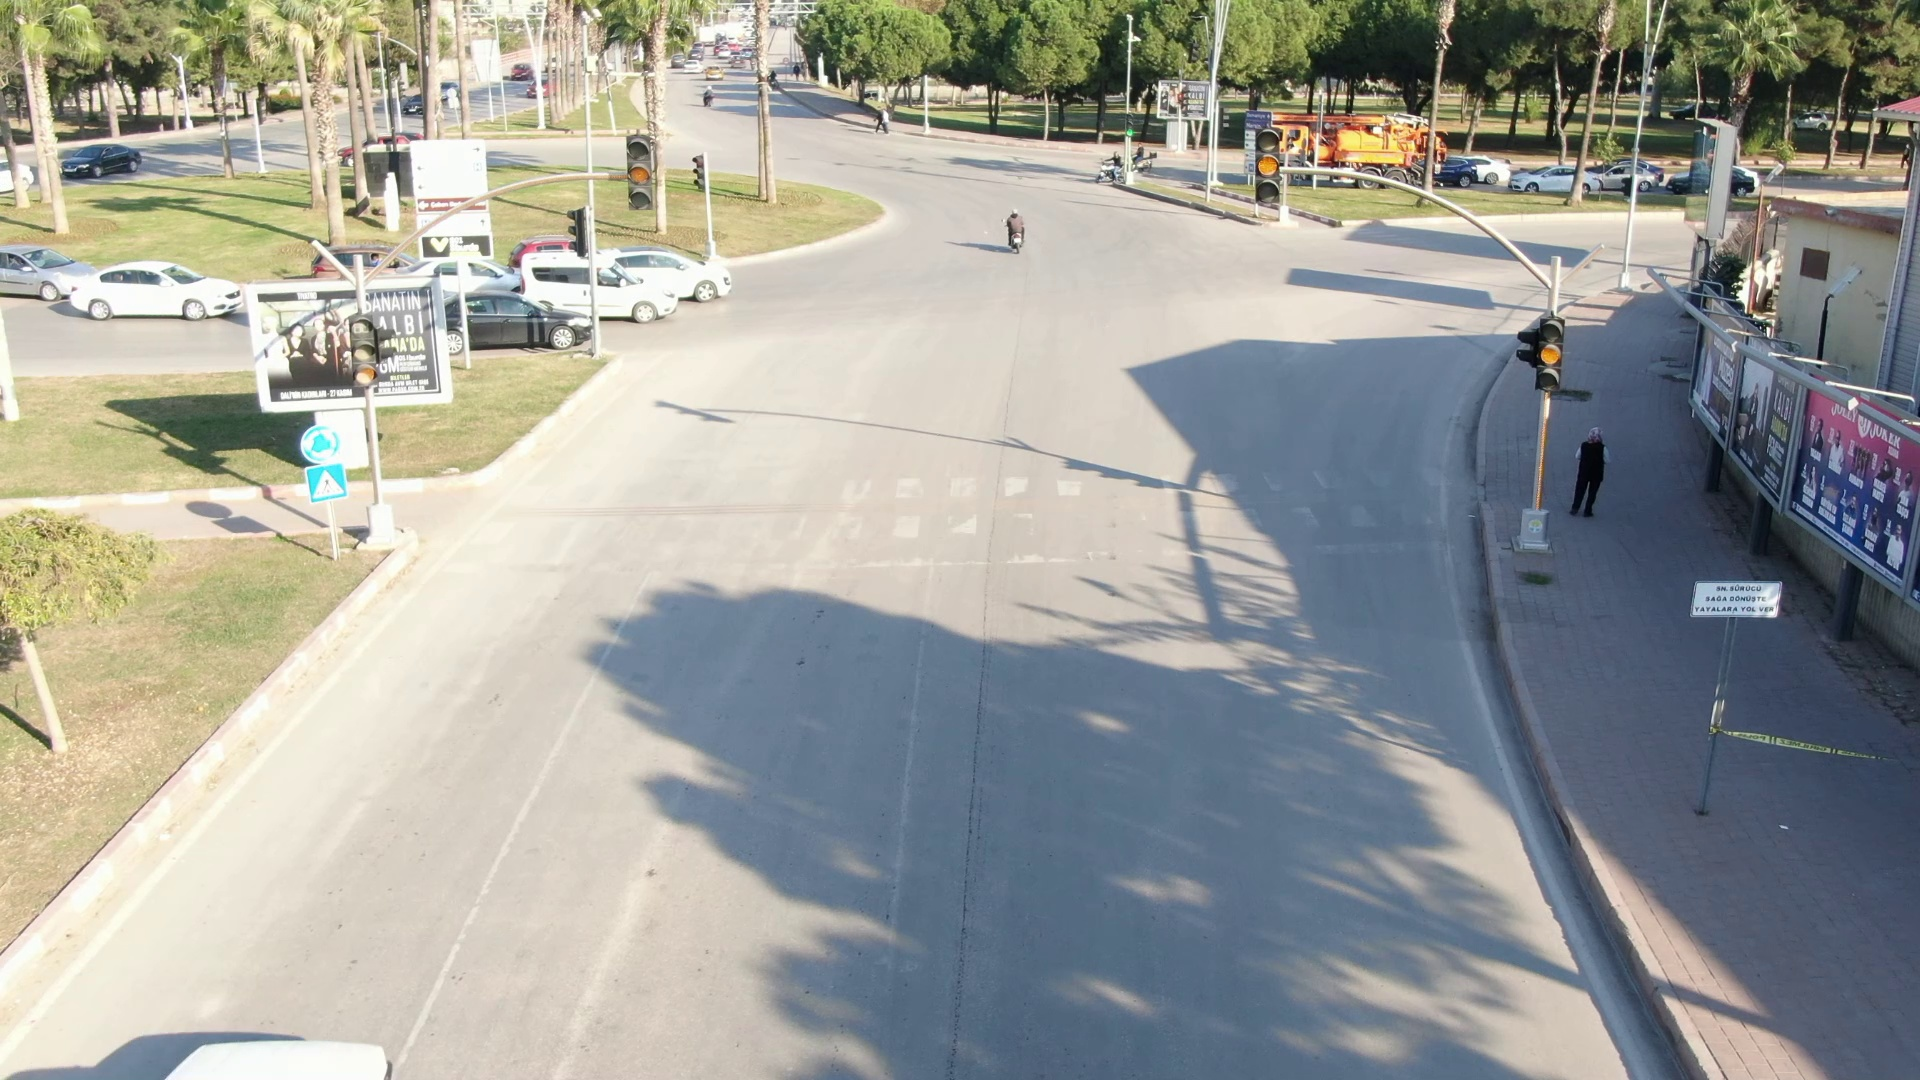car: (500, 235, 684, 319), (47, 259, 247, 317)
person: (1563, 421, 1614, 527), (994, 206, 1029, 251)
